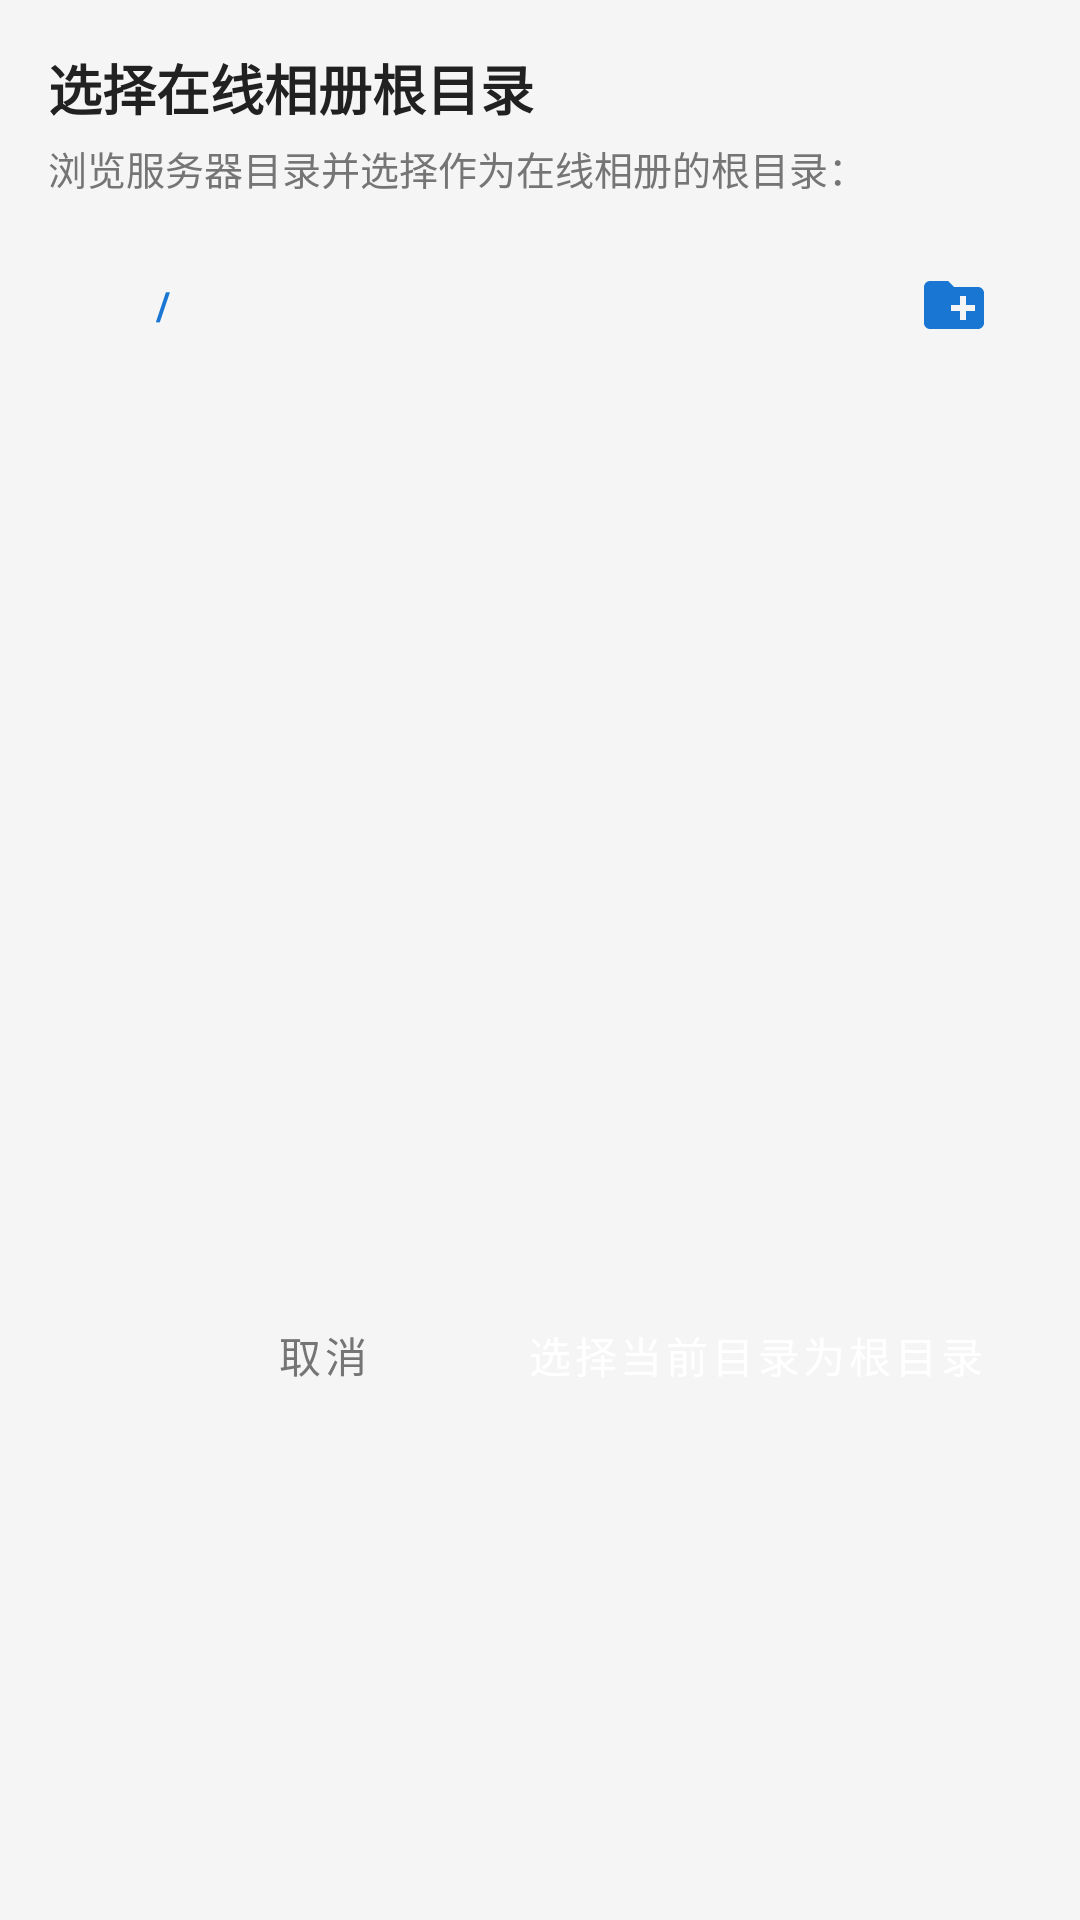

Where to tap for icons on this 1080×1920 app screen, as (x=x, y=y):
新建文件夹: (x=954, y=305)
